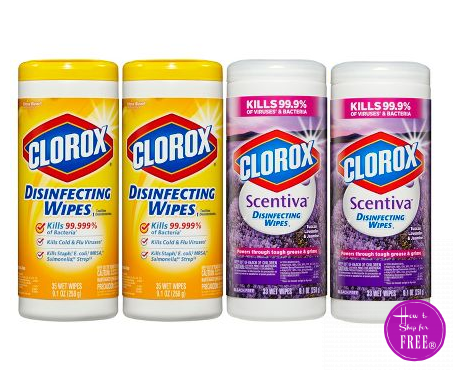Wipes: (13, 55, 121, 324), (328, 57, 435, 327), (225, 53, 330, 325), (120, 56, 225, 325)
